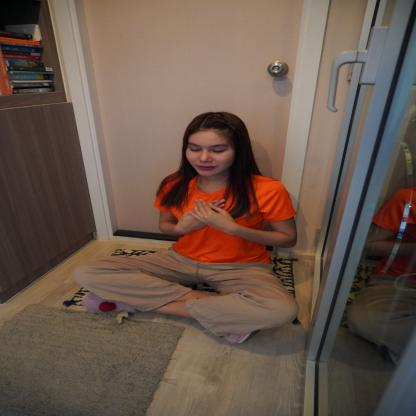Grieve: (157, 195, 264, 242)
